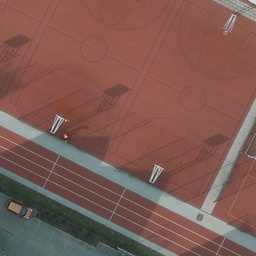car: (4, 199, 32, 219)
